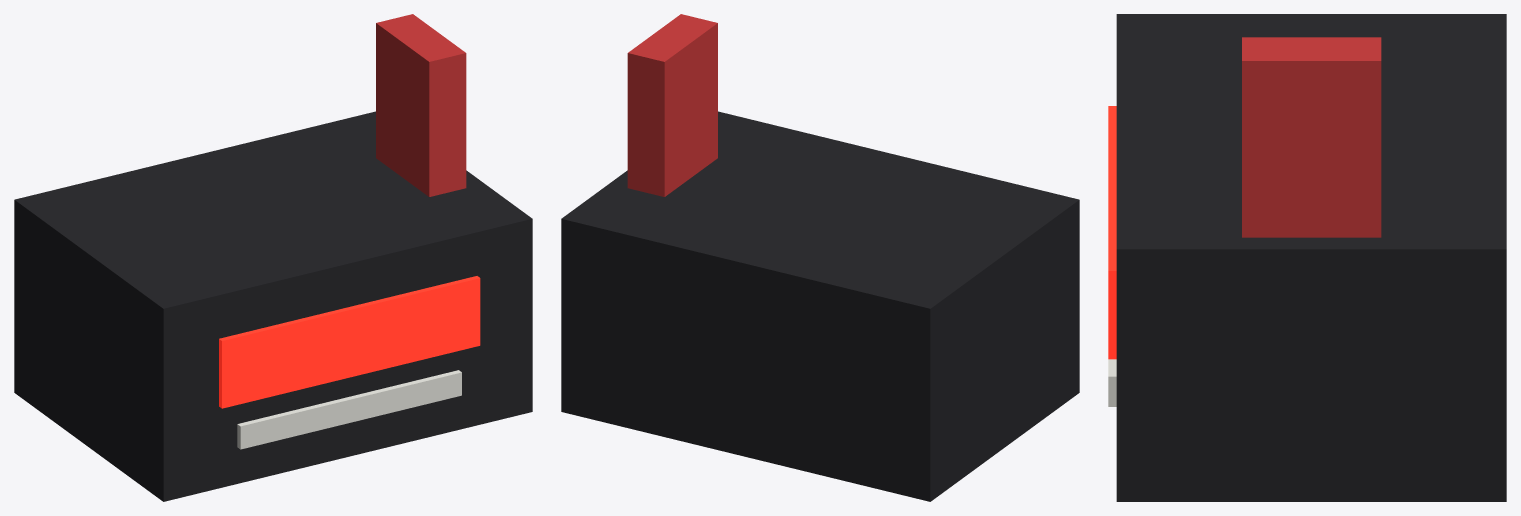
The model's file is garage_taximeter.glb.
3 renders of one model, left to right at view 1: azimuth 30°, elevation 25°; view 2: azimuth 150°, elevation 25°; view 3: azimuth 270°, elevation 25°, orthographic. The views are drawn at different scales.
Visible parts, largest first — view 1: box_flash_black, display_meter_red, flag_sign_red, buttons_counter_white; view 2: box_flash_black, flag_sign_red; view 3: box_flash_black, flag_sign_red, display_meter_red.
Boxes of the visible parts, x1=… form: box_flash_black: x1=14, y1=111, x2=532, y2=501; display_meter_red: x1=219, y1=276, x2=480, y2=408; flag_sign_red: x1=376, y1=14, x2=466, y2=196; buttons_counter_white: x1=237, y1=370, x2=461, y2=449; box_flash_black: x1=561, y1=111, x2=1079, y2=501; flag_sign_red: x1=627, y1=14, x2=717, y2=196; box_flash_black: x1=1116, y1=14, x2=1506, y2=501; flag_sign_red: x1=1242, y1=37, x2=1381, y2=237; display_meter_red: x1=1108, y1=106, x2=1116, y2=359.
Bounding box in the file's own units: 0.2 × 0.17 × 0.143.
